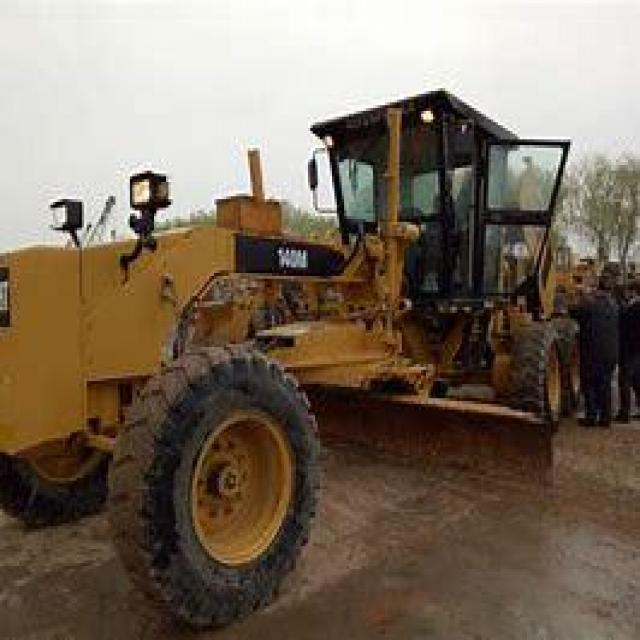Grader: (7, 77, 628, 620)
